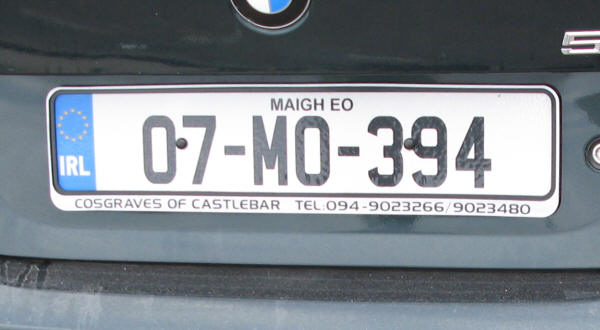license_plate: (47, 85, 558, 202)
